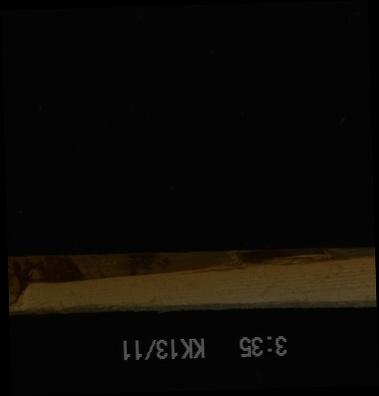wave: (7, 251, 375, 310)
